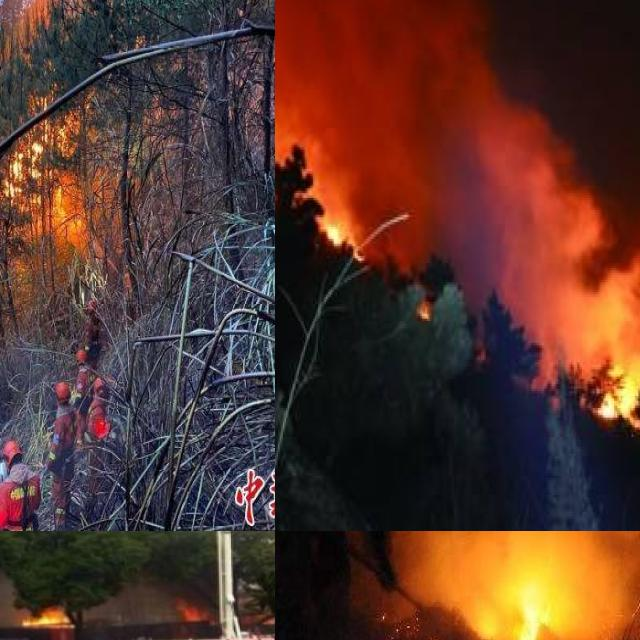fire: (0, 94, 111, 273), (469, 545, 586, 640), (593, 347, 640, 434), (321, 203, 355, 256), (21, 607, 76, 633)
smoke: (275, 0, 640, 420), (377, 531, 640, 639)
